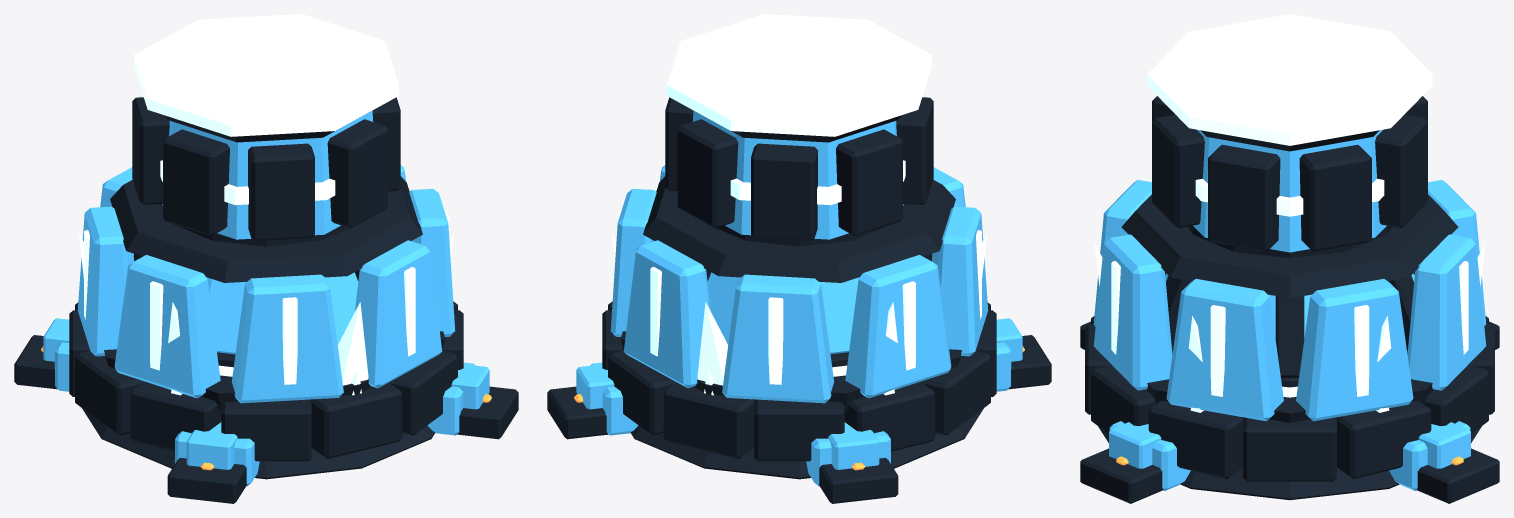
The model's file is tower_frost4_base.glb.
3 renders of one model, left to right at view 1: azimuth 30°, elevation 25°; view 2: azimuth 150°, elevation 25°; view 3: azimuth 270°, elevation 25°, orthographic. The views are drawn at different scales.
Parts seen in each view (by area): view 1: TowerFrost4_Base; view 2: TowerFrost4_Base; view 3: TowerFrost4_Base.
Boxes of the visible parts, x1,y1,x2,y2 form: TowerFrost4_Base: (14, 14, 518, 503); TowerFrost4_Base: (547, 14, 1051, 503); TowerFrost4_Base: (1080, 14, 1499, 503).
Bounding box in the file's own units: 0.8754 × 0.788 × 0.8754.
